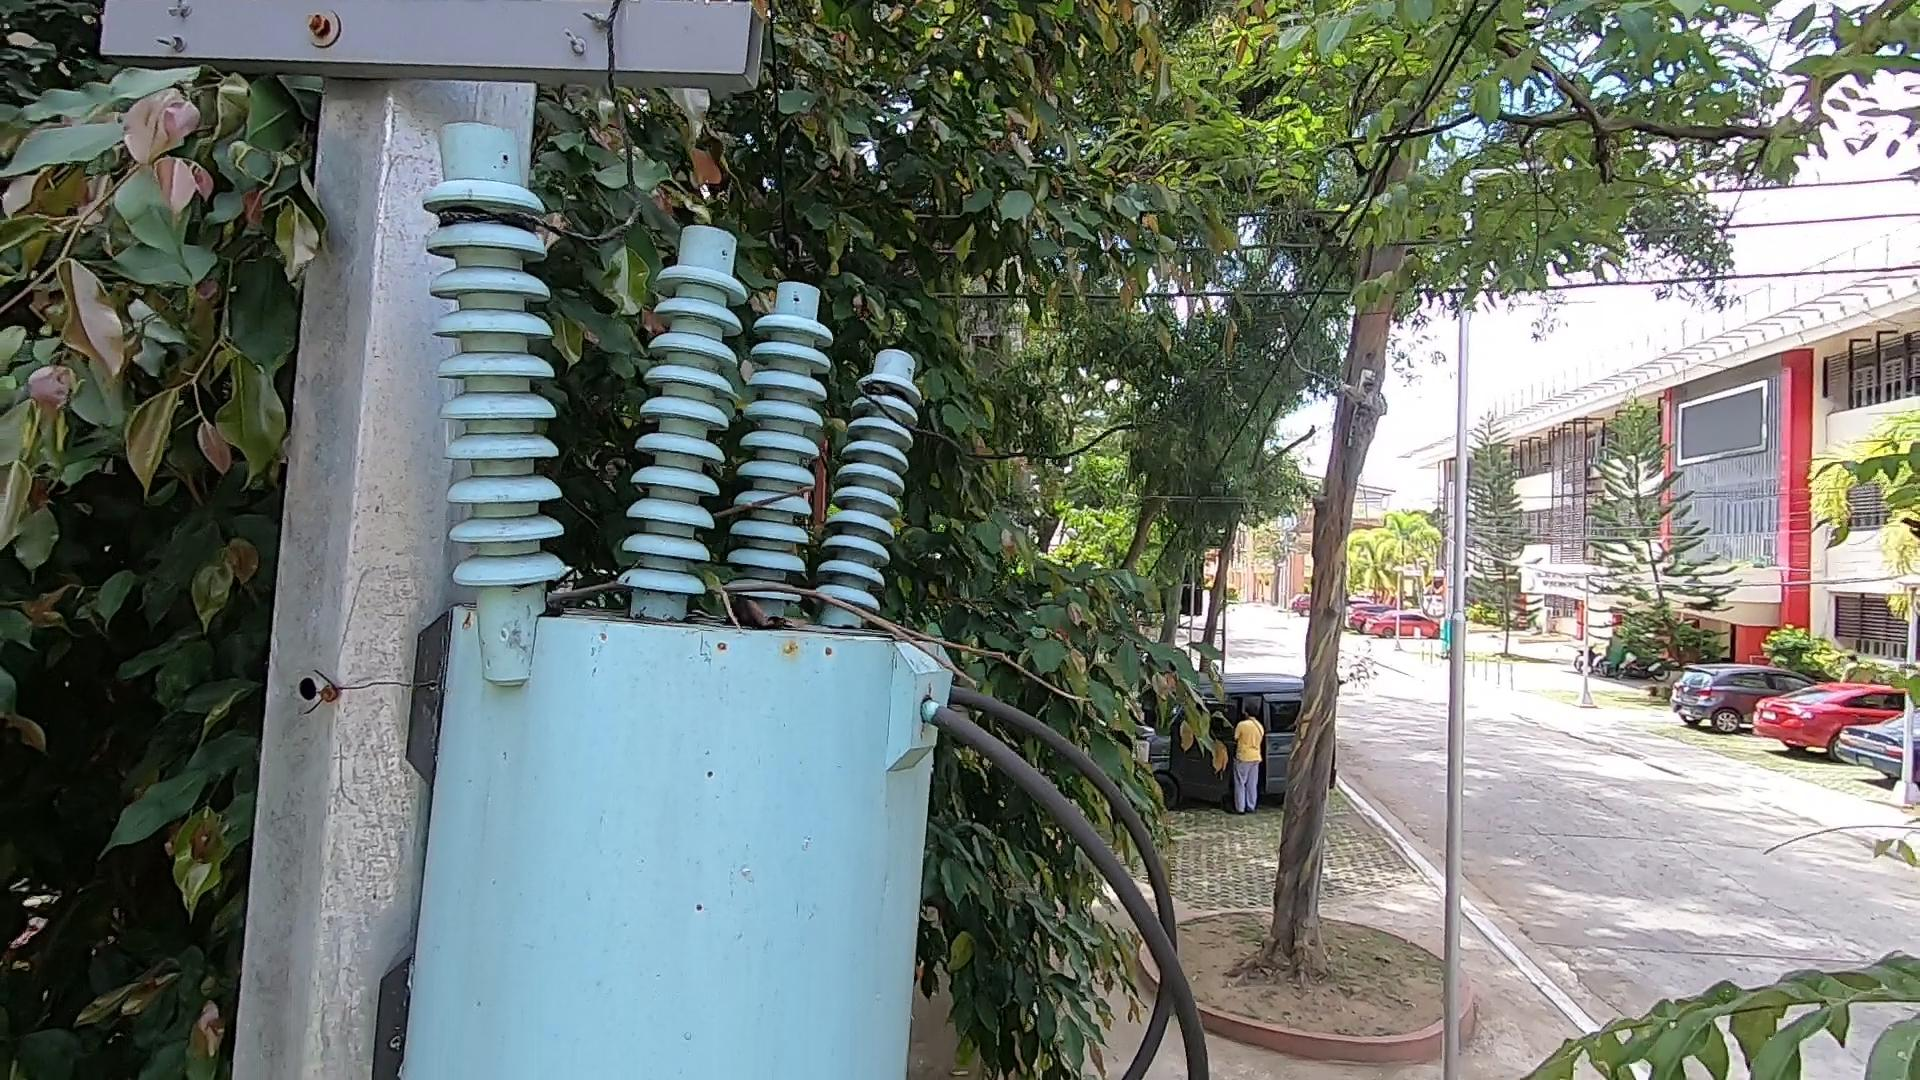leaf: (715, 578, 790, 637)
tree branch: (533, 549, 1092, 753)
